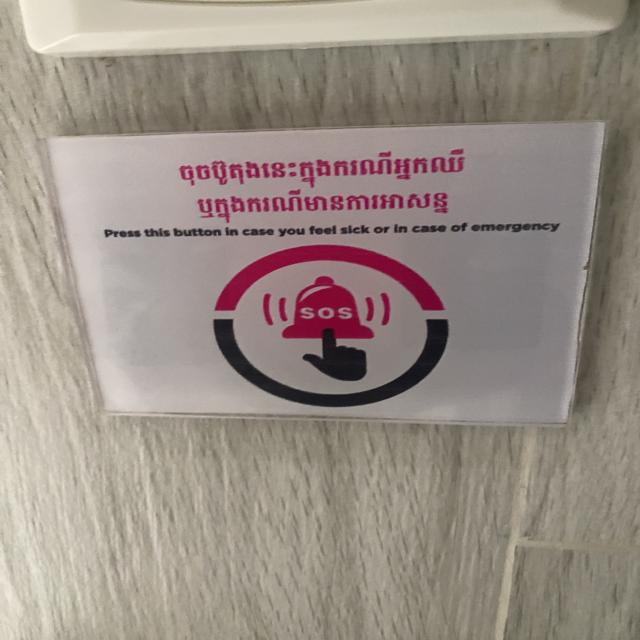Yolov11_80vkh: (172, 143, 476, 194), (194, 181, 454, 224)
